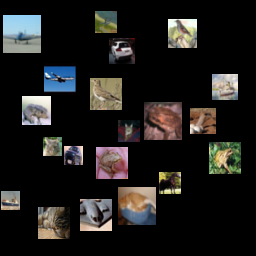airplane: (3, 15, 41, 53), (44, 63, 76, 95), (80, 199, 112, 231), (95, 11, 117, 33)
automobile: (109, 38, 135, 64), (64, 146, 83, 165)
bird: (90, 78, 122, 110), (168, 19, 197, 48), (190, 108, 216, 134)
cat: (118, 187, 156, 225), (38, 207, 70, 239), (118, 120, 140, 142), (43, 137, 62, 156)
frog: (144, 102, 182, 140), (96, 147, 128, 179), (209, 142, 241, 174), (22, 96, 51, 125)
ship: (212, 74, 238, 100), (1, 191, 20, 210)
